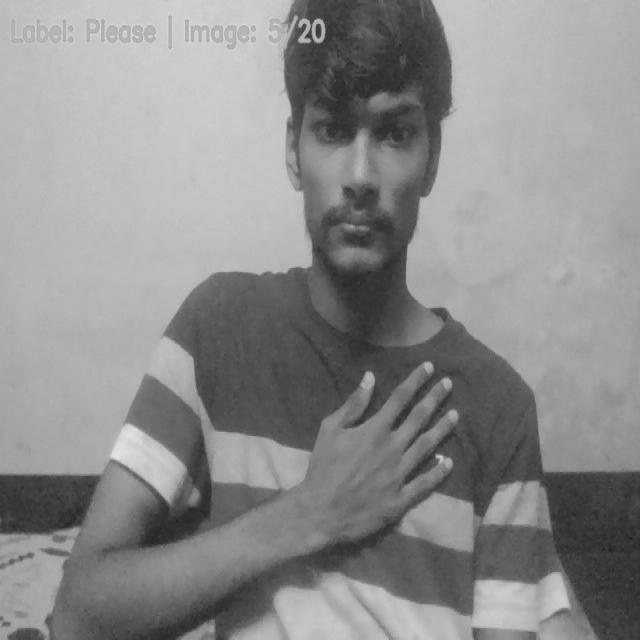Please: (302, 358, 456, 555)
